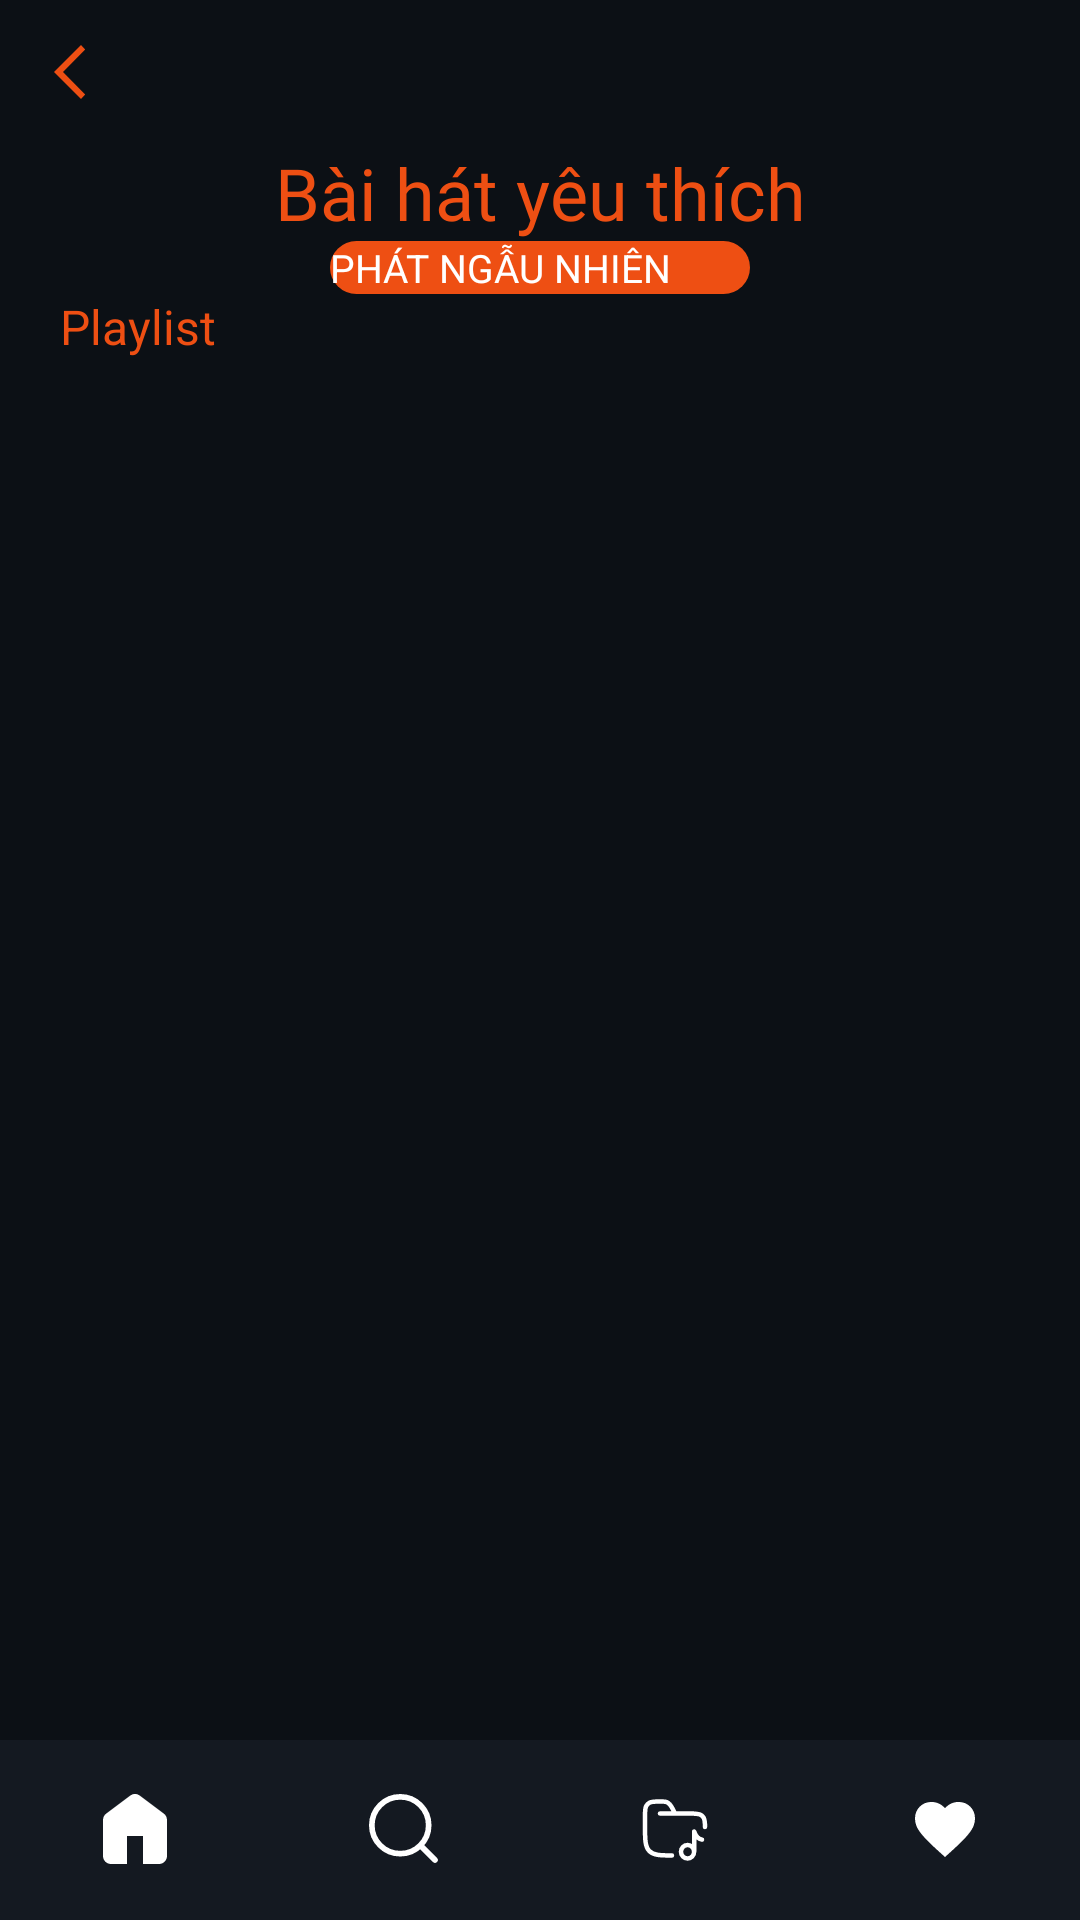

Icon click points for this 1080*1920 phone screenshot, format [x,y]:
heart: [945,1829]
home: [135,1829]
id fold: [675,1830]
prev back: [69,72]
search: [403,1828]
